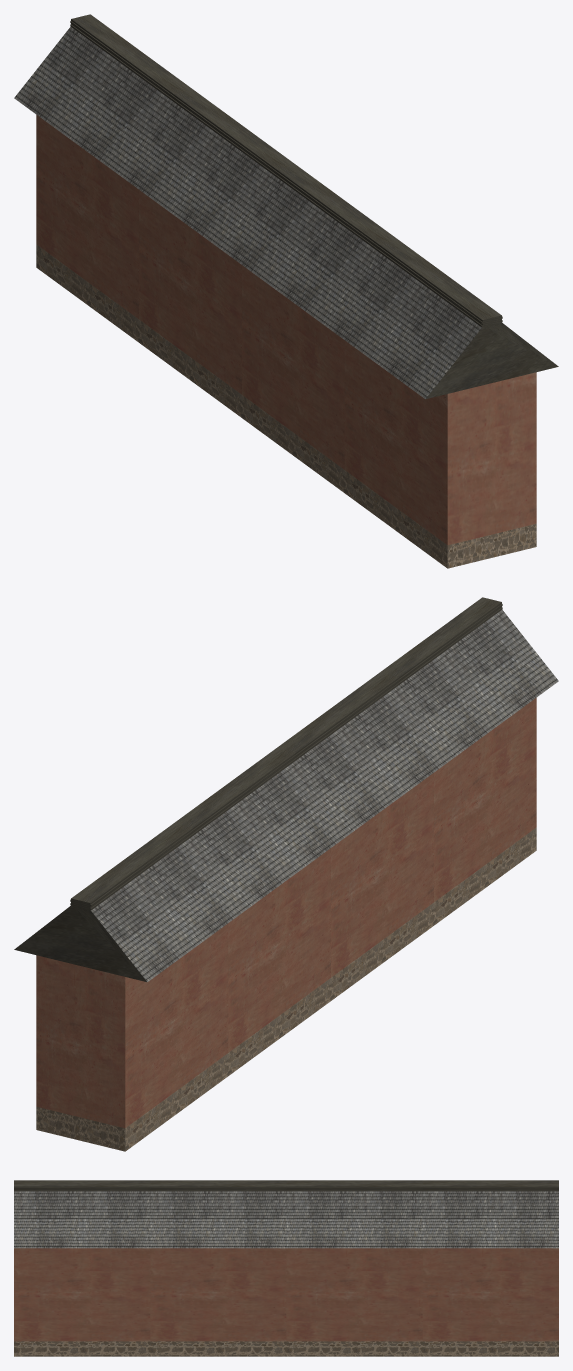
File: BigWall.fbx
3 views of the same model, one above another, from view 1: azimuth 30°, elevation 25°; view 2: azimuth 150°, elevation 25°; view 3: azimuth 270°, elevation 25° (orthographic). The views are drawn at different scales.
Visible parts, largest first — view 1: ChineseWallB.003; view 2: ChineseWallB.003; view 3: ChineseWallB.003.
Boxes of the visible parts, x1=… form: ChineseWallB.003: x1=14, y1=14, x2=558, y2=568; ChineseWallB.003: x1=14, y1=597, x2=558, y2=1151; ChineseWallB.003: x1=14, y1=1180, x2=558, y2=1356.
Size of the model in its own units: 600 by 1030 by 3200.
